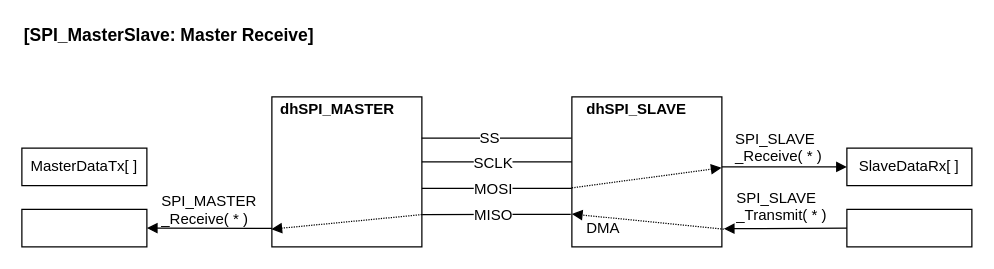
Some shapes in this 994 by 269 pixel diagram are drawn without their labels. Each missing label, with the centre of its shape:
MasterDataRx[ ]: pixel 84 227
SlaveDataTx[ ]: pixel 909 227
